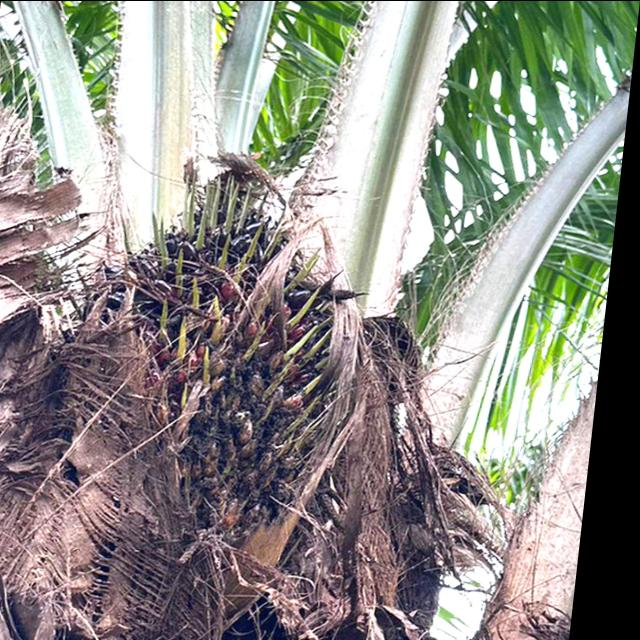unripe: (80, 178, 380, 592)
